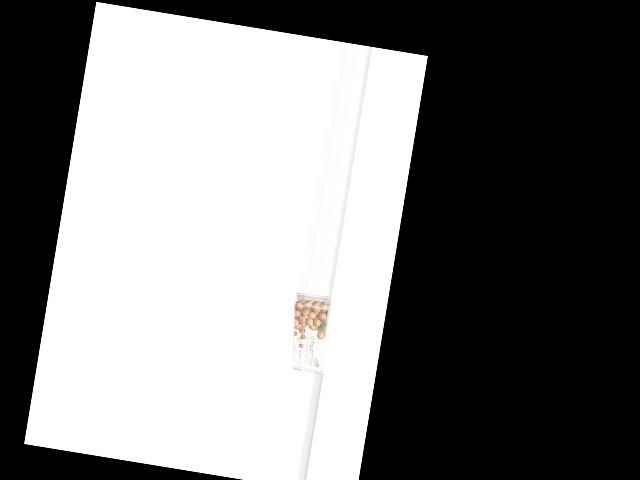chocolate: (283, 292, 332, 374)
